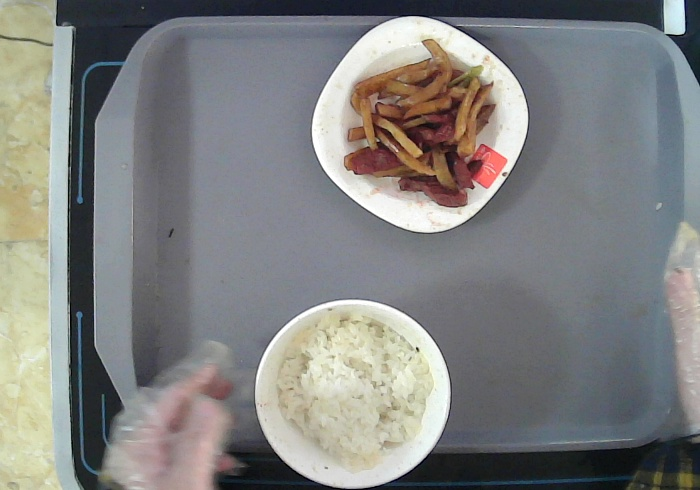SHKJ-Bai_Se_Si_Fang_Cai_Die: (309, 11, 533, 236)
SHKJ-Fan_Wan: (253, 296, 457, 489)
